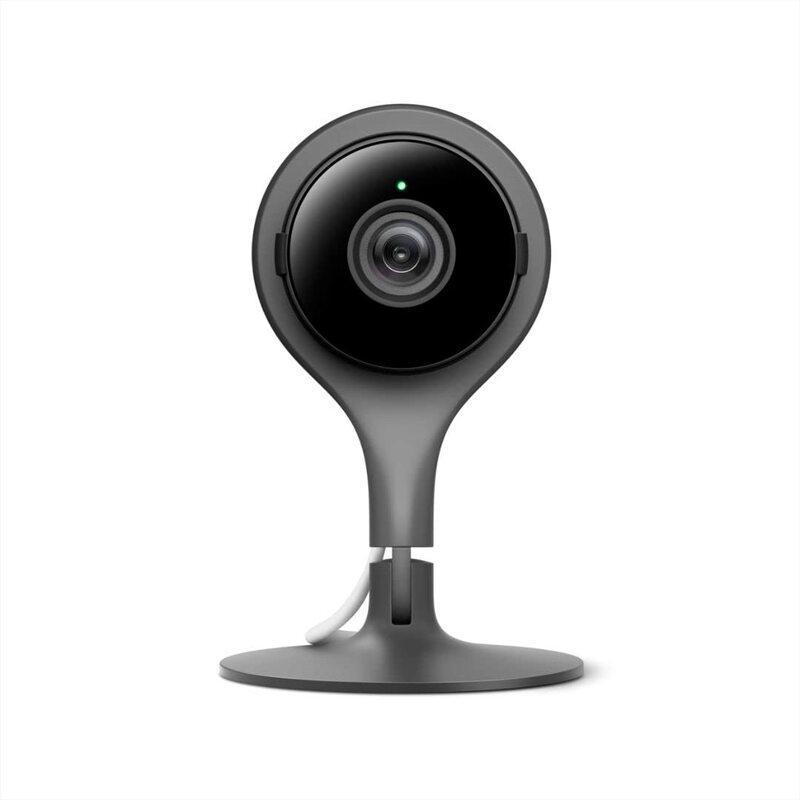nest: (215, 92, 590, 705)
